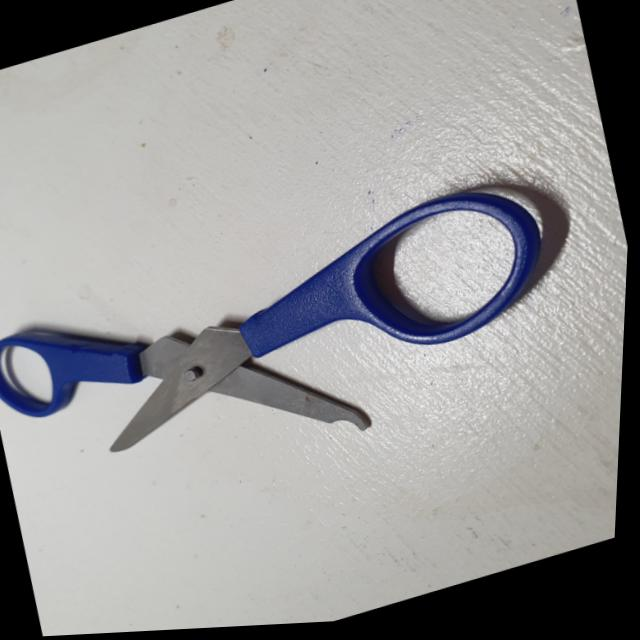scissor: (0, 167, 589, 539)
